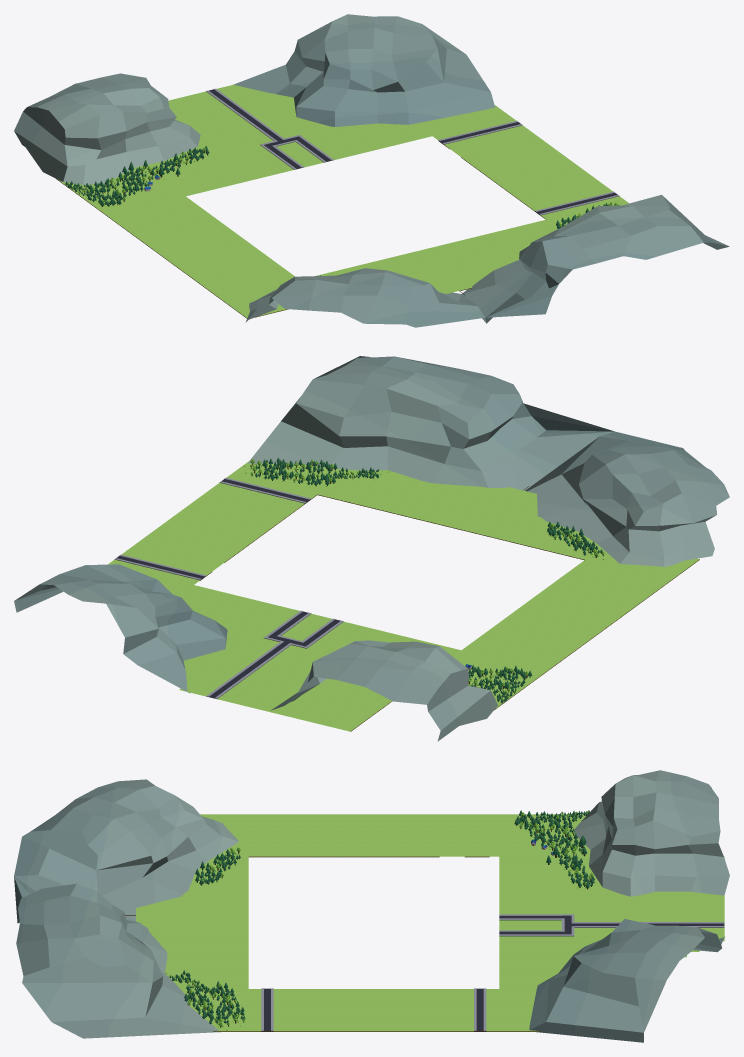
Rendered from decor.fbx.
The picture shows the model from 3 angles, top to bottom: view 1: azimuth 30°, elevation 25°; view 2: azimuth 150°, elevation 25°; view 3: azimuth 270°, elevation 25°; orthographic projection. The views are drawn at different scales.
Parts seen in each view (by area): view 1: base2.005; view 2: base2.005; view 3: base2.005.
Part boxes in pixels (x1,y1,x2,y2): base2.005: [14, 14, 729, 327]; base2.005: [14, 356, 729, 741]; base2.005: [14, 770, 729, 1042].
Bounding box in the file's own units: 8766 × 11434 × 1274.
